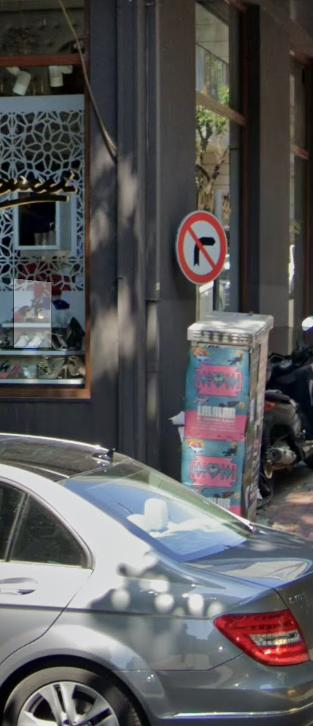rightturnsareforbidden: (171, 211, 230, 282)
